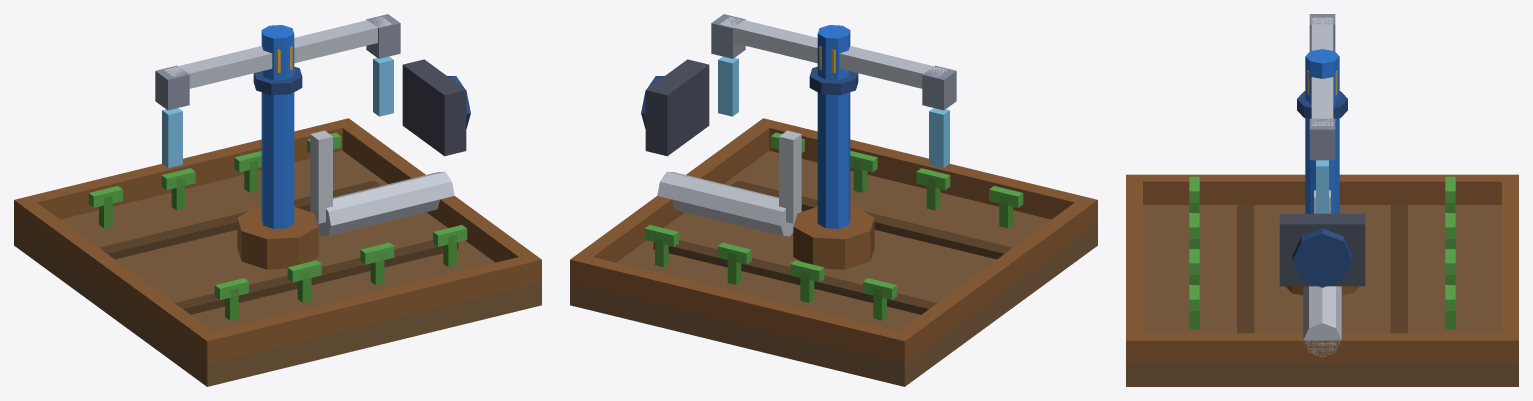
File: sprinkler.glb
3 views of the same model, side by side, from view 1: azimuth 30°, elevation 25°; view 2: azimuth 150°, elevation 25°; view 3: azimuth 270°, elevation 25° (orthographic).
Visible parts, largest first — view 1: sprinkler, spin-up; view 2: sprinkler, spin-up; view 3: sprinkler, spin-up.
Boxes of the visible parts, bbox=[...] form: sprinkler: bbox=[14, 25, 541, 386]; spin-up: bbox=[155, 14, 400, 167]; sprinkler: bbox=[570, 25, 1097, 386]; spin-up: bbox=[711, 14, 956, 167]; sprinkler: bbox=[1126, 49, 1518, 386]; spin-up: bbox=[1307, 14, 1337, 213].
Bounding box in the file's own units: 0.95 × 0.64 × 0.92.
2 materials, 2 textured.
